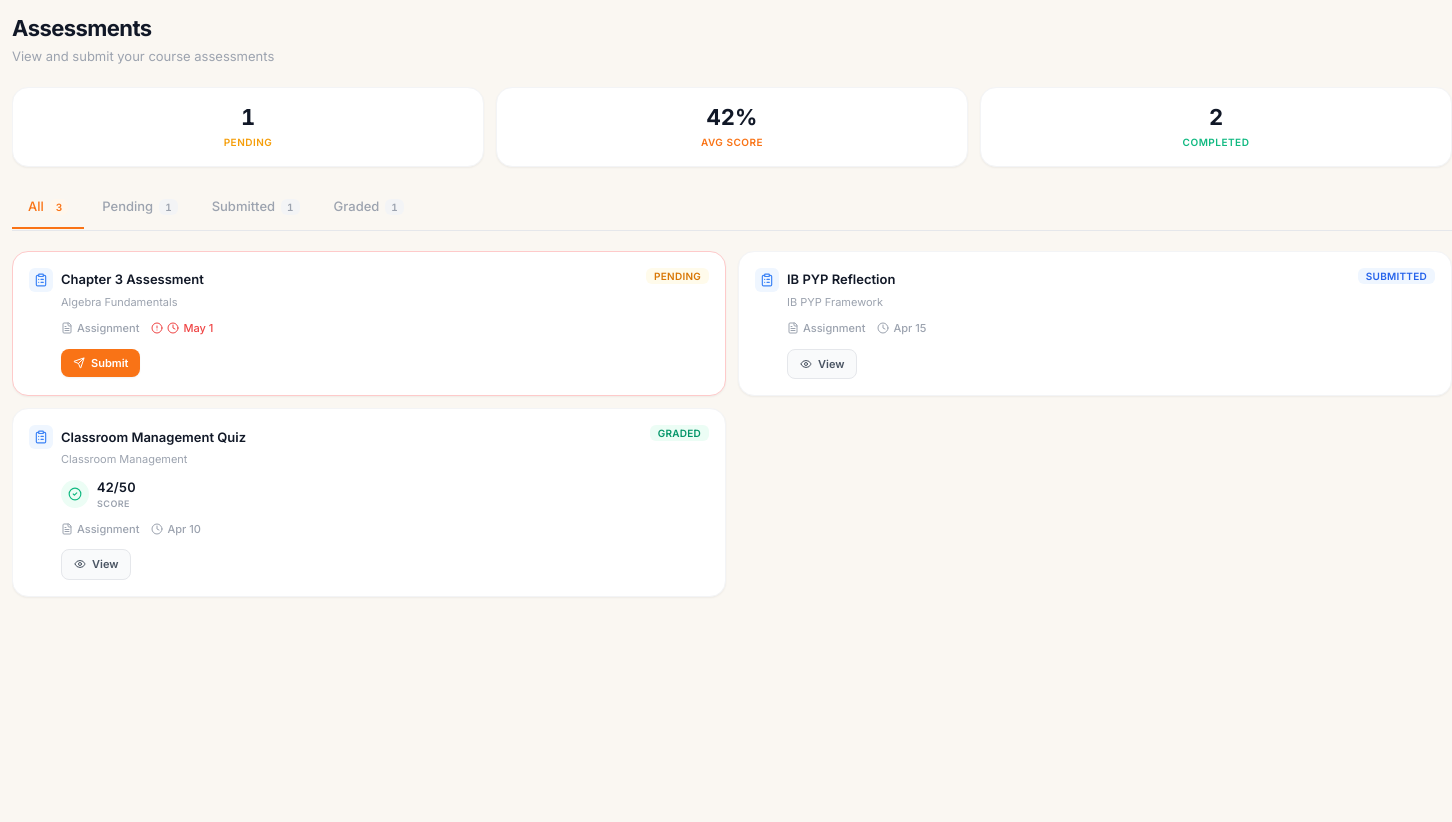
AssignmentsPage › Tab filtering › clicking "Submitted" tab shows only the submitted assignment
This screenshot has width=1452, height=822.
Expected: the heading "IB PYP Reflection" is shown, 787,271 -> 895,288
Click the button "Submitted1" at (256,208), box 196,187 -> 316,228
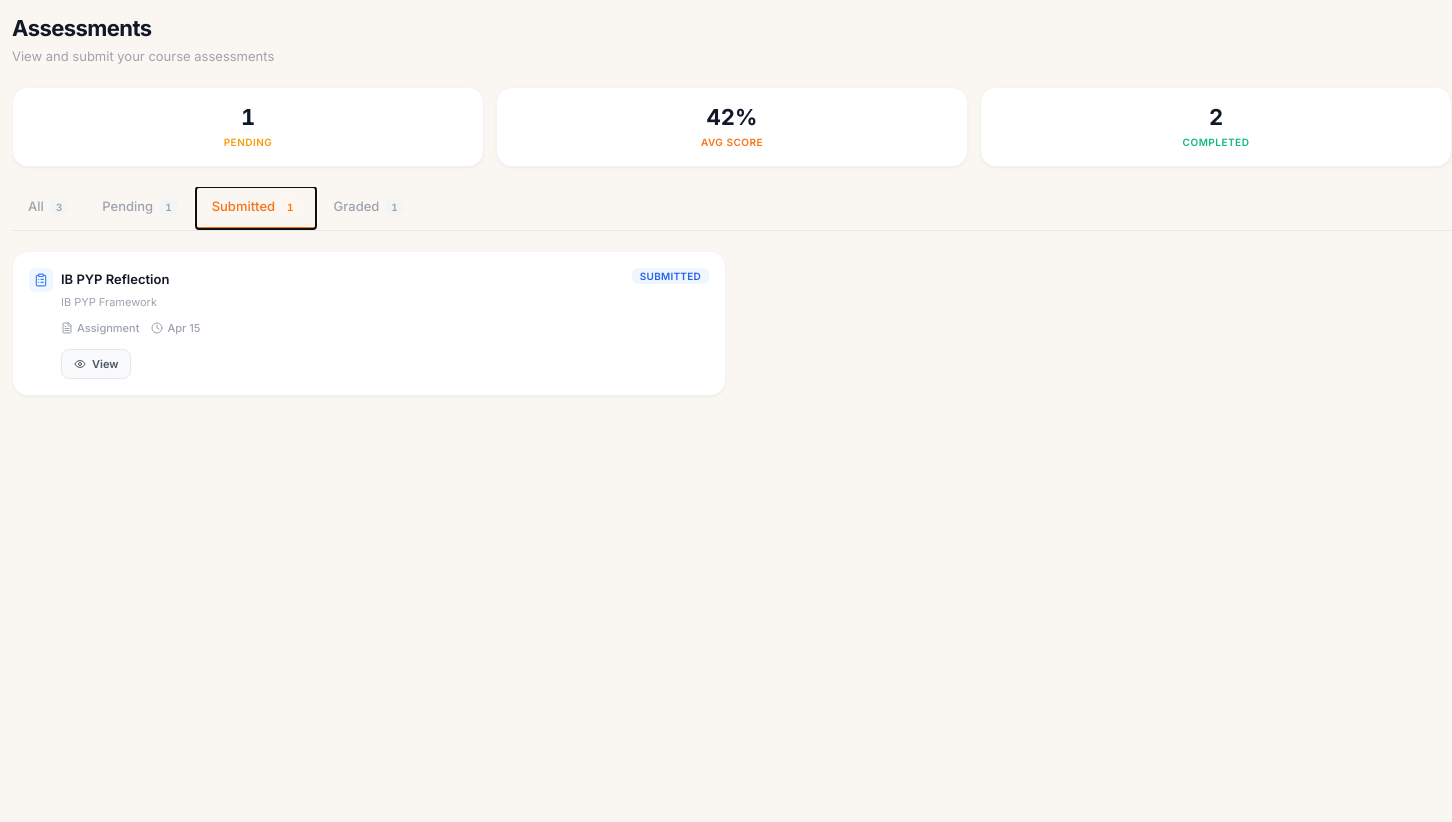
Expected: the heading "IB PYP Reflection" is shown, 61,271 -> 169,288
Result: the heading "Chapter 3 Assessment" is gone
Result: the heading "Classroom Management Quiz" is gone
